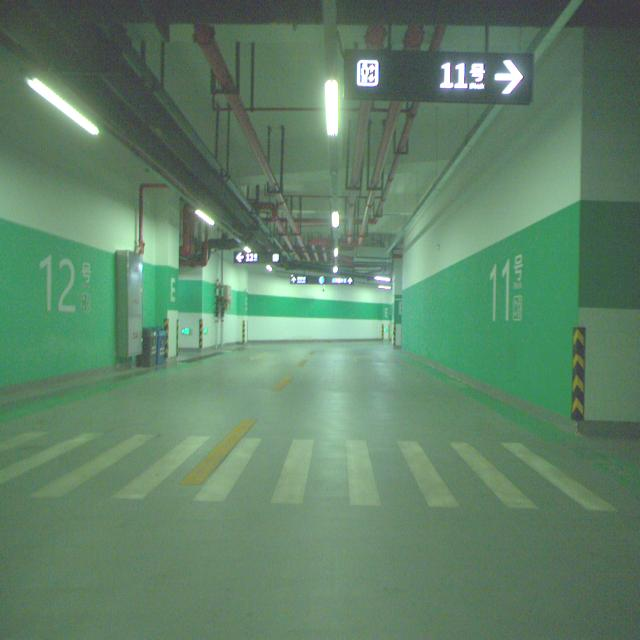wall: (157, 189, 180, 362)
